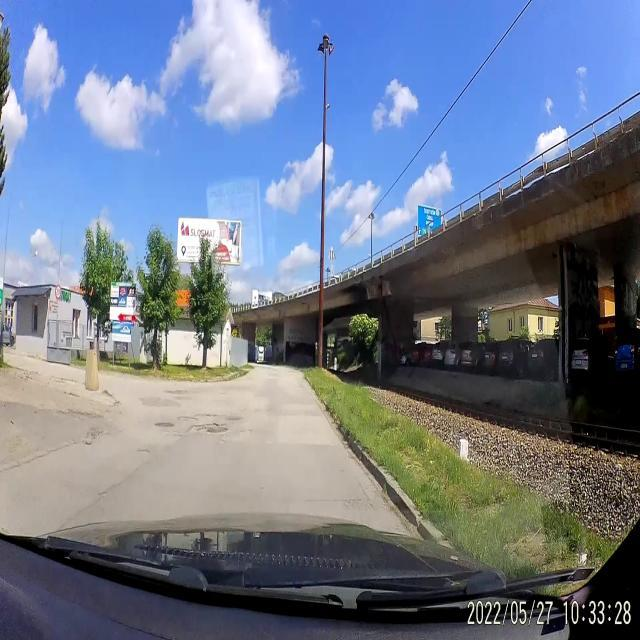Manhole: (203, 426, 228, 438), (155, 418, 175, 432), (177, 413, 197, 424)
Pothole: (188, 423, 208, 440), (198, 411, 220, 418), (134, 450, 152, 455)
